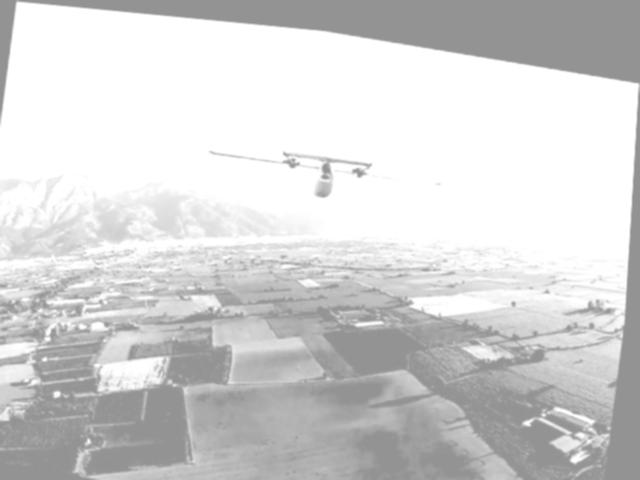hedef: (192, 69, 462, 263)
